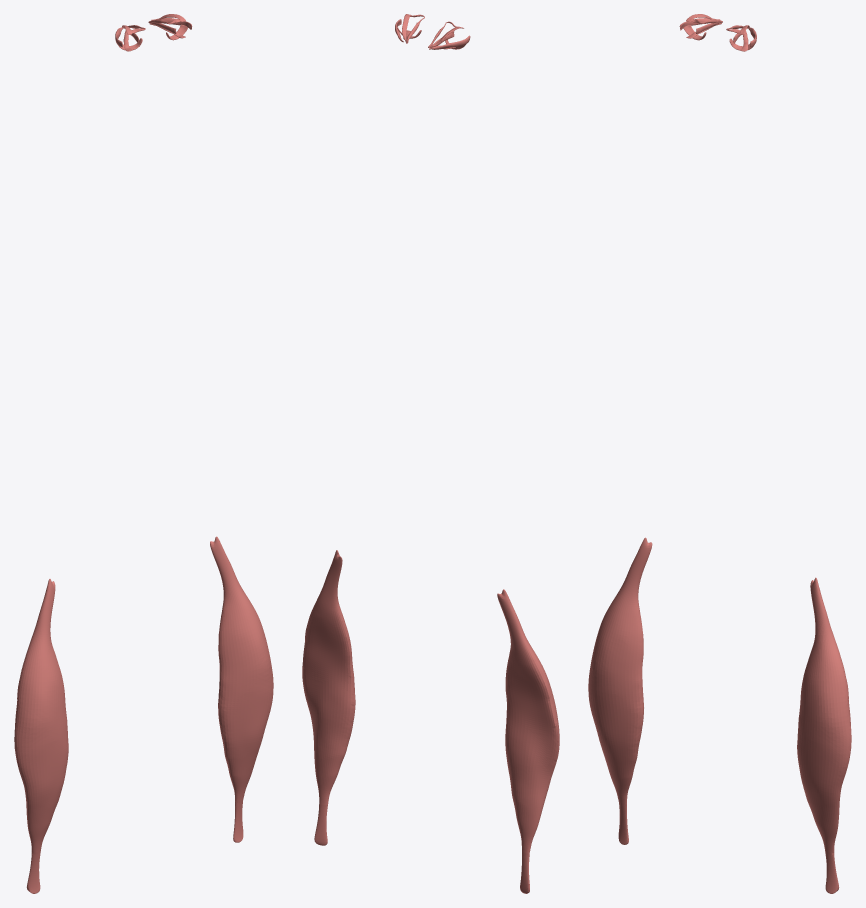
The model's file is muscles-partial.glb.
The picture shows the model from 3 angles, left to right: view 1: azimuth 30°, elevation 25°; view 2: azimuth 150°, elevation 25°; view 3: azimuth 330°, elevation 25°; orthographic projection. The views are drawn at different scales.
Parts seen in each view (by area): view 1: muscles-partial; view 2: muscles-partial; view 3: muscles-partial.
Boxes of the visible parts, bbox=[...] form: muscles-partial: bbox=[14, 14, 273, 893]; muscles-partial: bbox=[302, 14, 559, 893]; muscles-partial: bbox=[588, 14, 851, 893].
Bounding box in the file's own units: 0.3555 × 1.12 × 0.0543.
